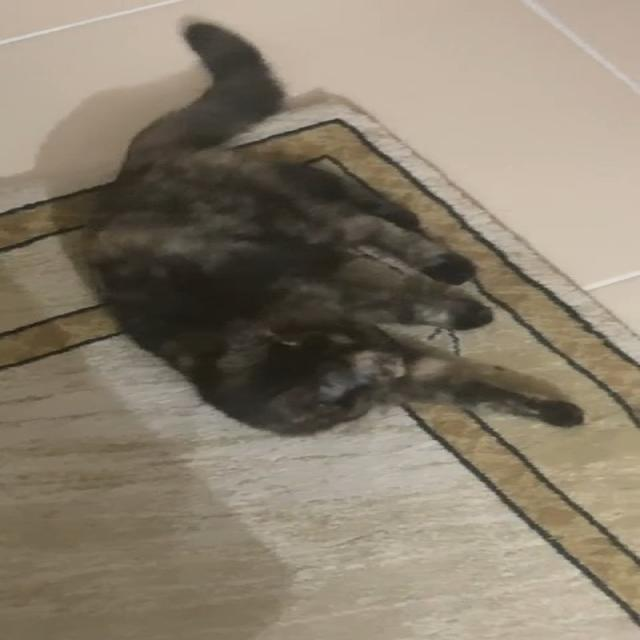authorized: (3, 15, 585, 438)
